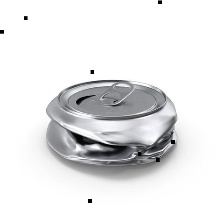can: (38, 72, 185, 173)
